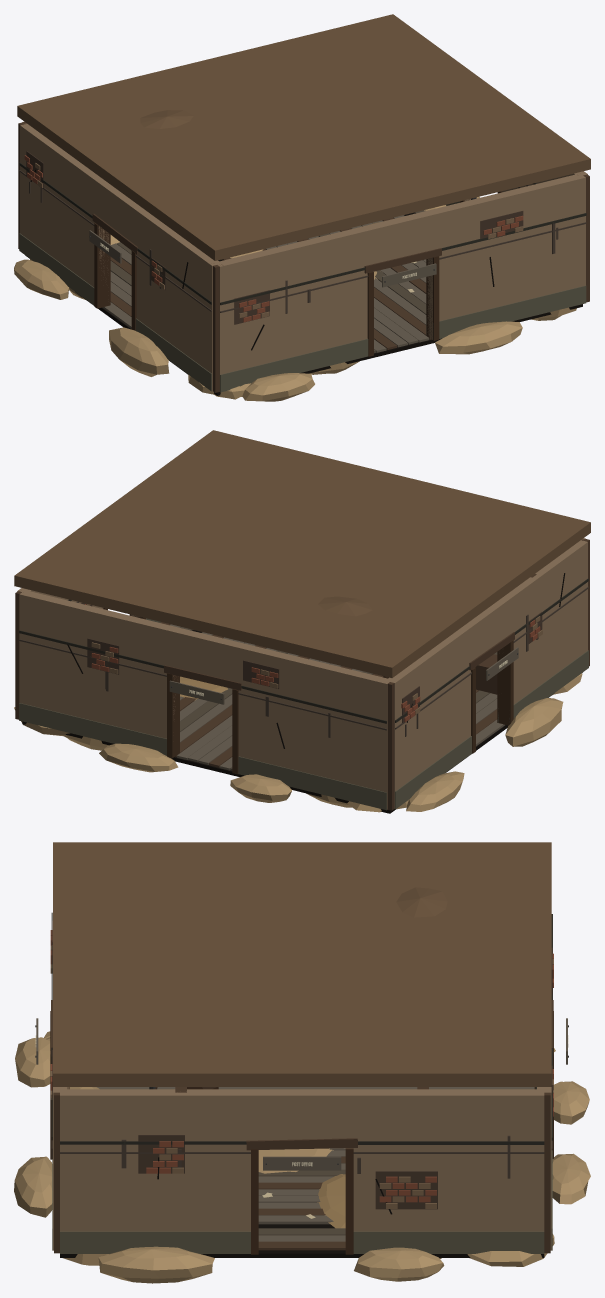
The model's file is TownBldg_post.glb.
3 renders of one model, top to bottom at view 1: azimuth 30°, elevation 25°; view 2: azimuth 150°, elevation 25°; view 3: azimuth 270°, elevation 25°, orthographic. The views are drawn at different scales.
Visible parts, largest first — view 1: TownBldg_post.001; view 2: TownBldg_post.001; view 3: TownBldg_post.001.
Part boxes in pixels (left/top/right/bottom): TownBldg_post.001: left=14, top=14, right=590, bottom=401; TownBldg_post.001: left=14, top=430, right=590, bottom=813; TownBldg_post.001: left=14, top=842, right=590, bottom=1283.
Size of the model in its own units: 12.9 by 4.79 by 11.92.
